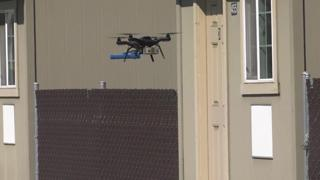UAV: (109, 33, 181, 62)
